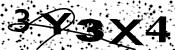3: (73, 16, 107, 43), (11, 6, 32, 34)
4: (143, 11, 173, 45)
X: (109, 14, 143, 47)
Y: (36, 10, 72, 39)
